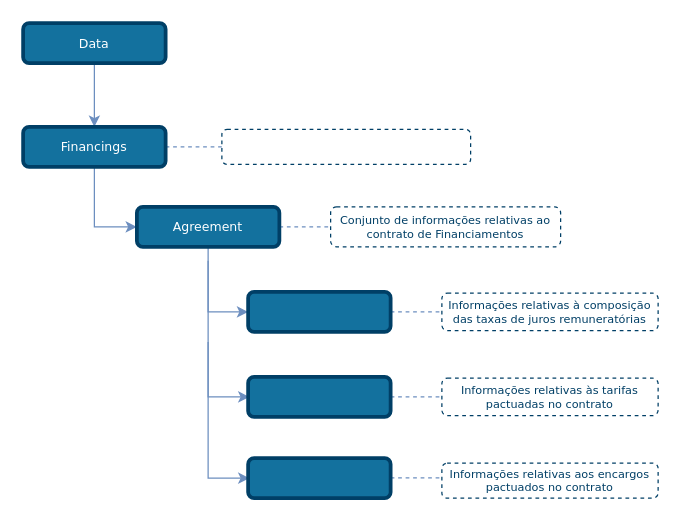
This 680x521 diagram has some shape labels left out. The centre of each missing label's shape, as x and y in pixels:
"Conjunto das informações de Operações de Crédito de Financiamentos" goes at (x=346, y=146).
"Contracted Fees" goes at (x=319, y=396).
"Contracted Finance Charges" goes at (x=319, y=477).
"Interest Rates" goes at (x=319, y=311).
